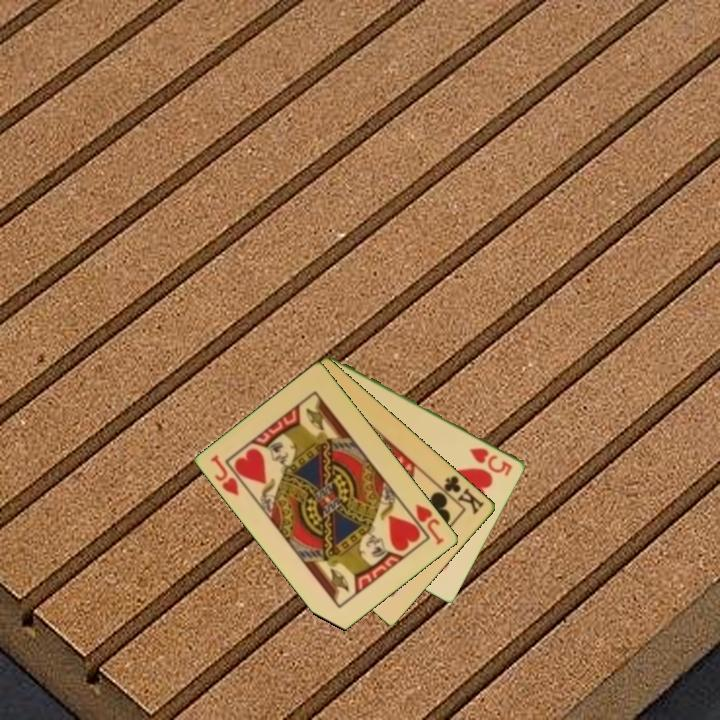5h: (466, 444, 515, 479)
Jh: (412, 500, 447, 548), (208, 451, 242, 499)
Kc: (435, 472, 488, 518)
